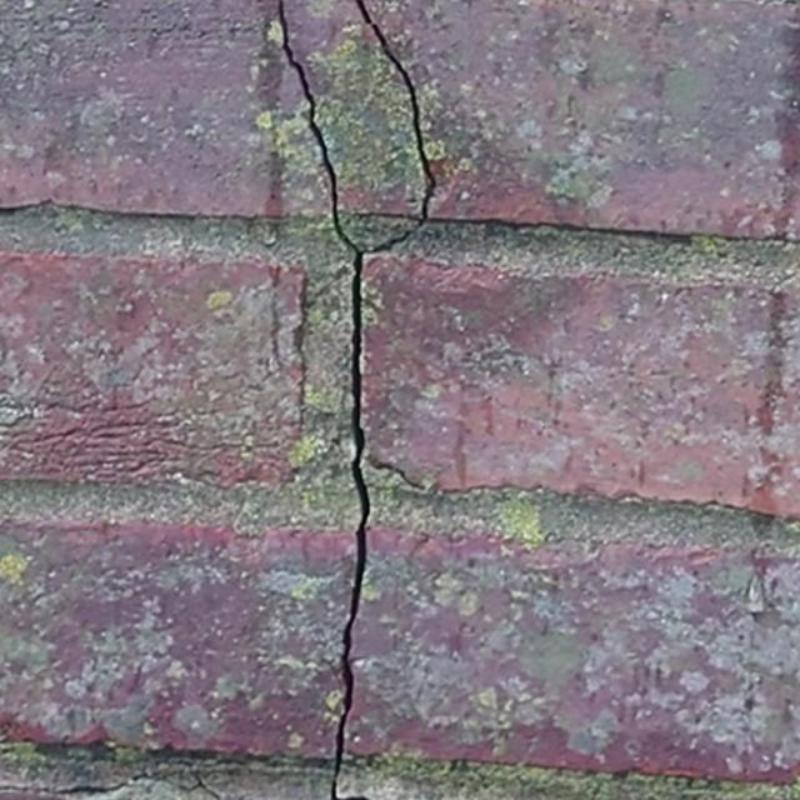pothole: (279, 0, 436, 800)
